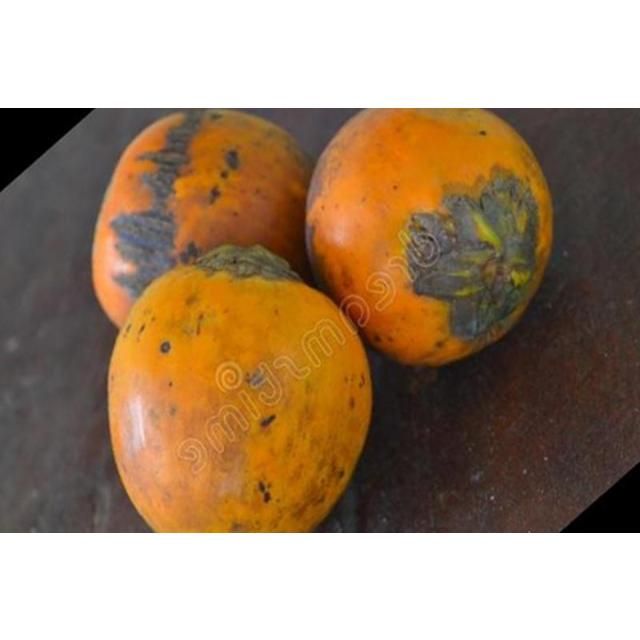good: (106, 242, 374, 532), (303, 107, 554, 368), (90, 112, 298, 328), (128, 110, 314, 284)
